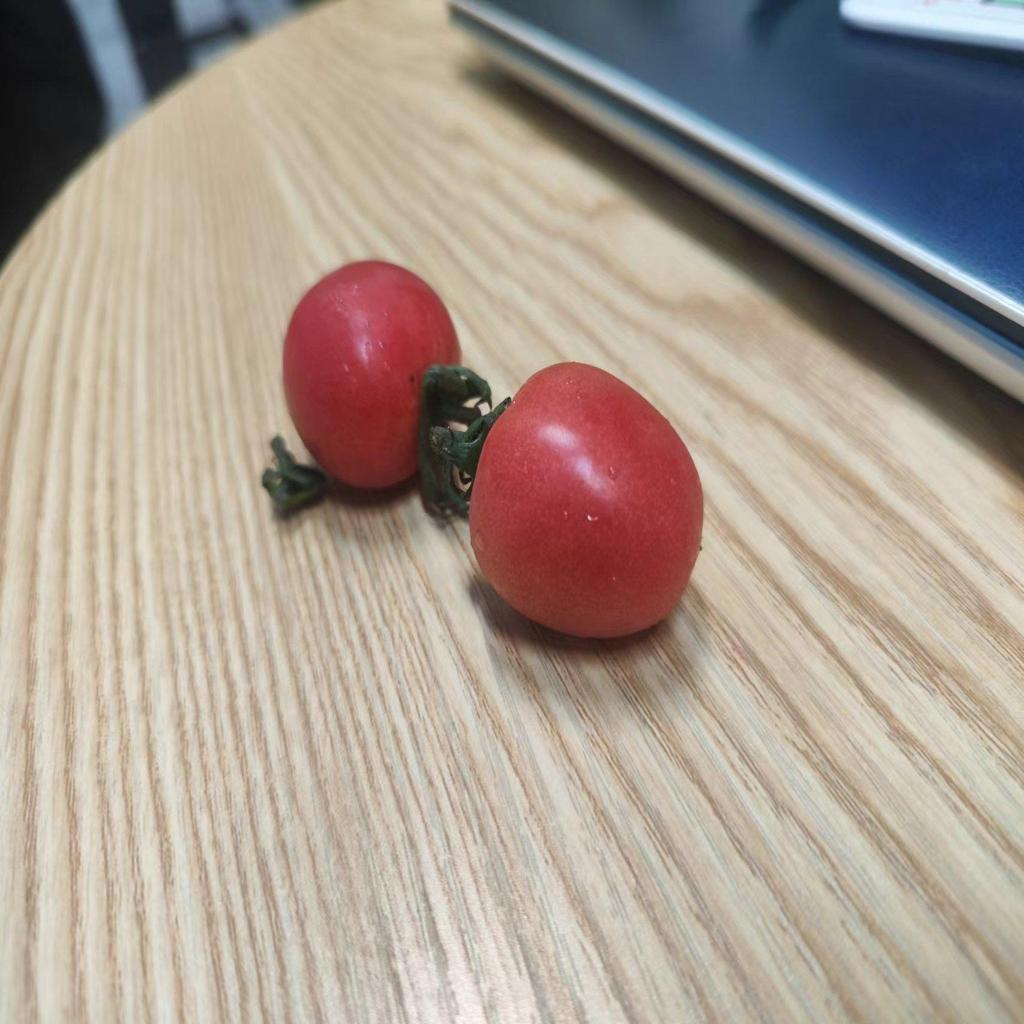tomato: (490, 354, 713, 642), (283, 268, 469, 483)
